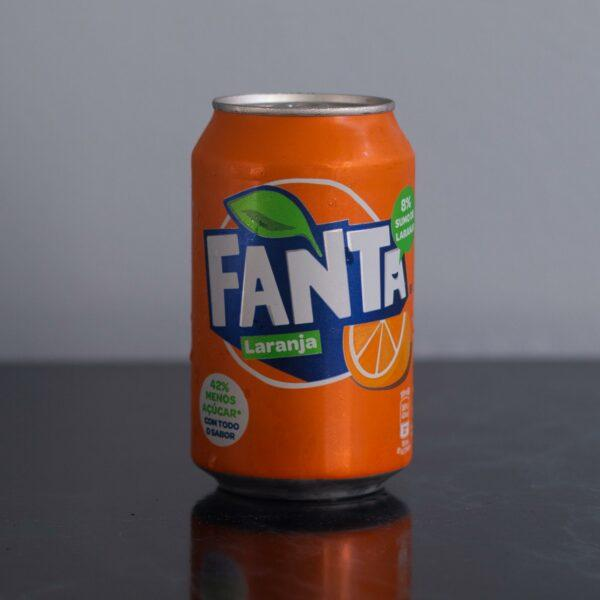metal: (192, 93, 415, 500)
